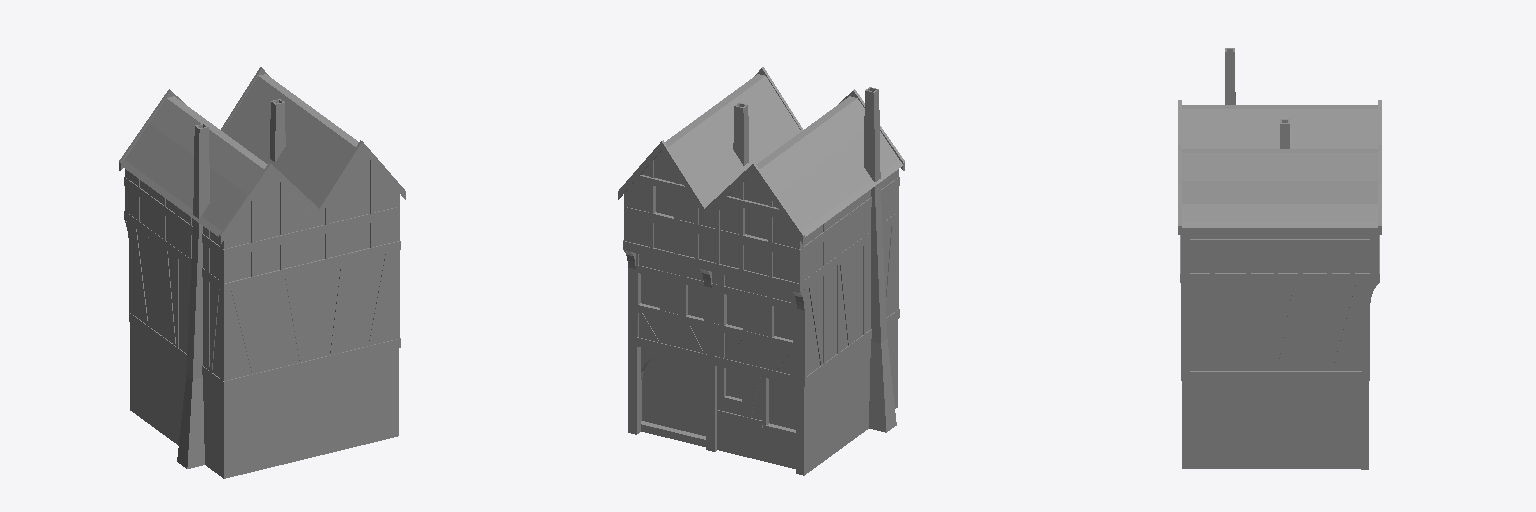
The model's file is House.obj.
3 views of the same model, side by side, from view 1: azimuth 30°, elevation 25°; view 2: azimuth 150°, elevation 25°; view 3: azimuth 270°, elevation 25° (orthographic).
Visible parts, largest first — view 1: House; view 2: House; view 3: House.
Boxes of the visible parts, x1,y1,x2,y2 form: House: [119, 67, 405, 478]; House: [618, 67, 904, 475]; House: [1178, 48, 1381, 469].
Size of the model in its own units: 5.12 by 8.28 by 4.57.